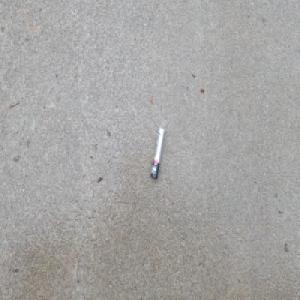Battery: (149, 127, 164, 181)
